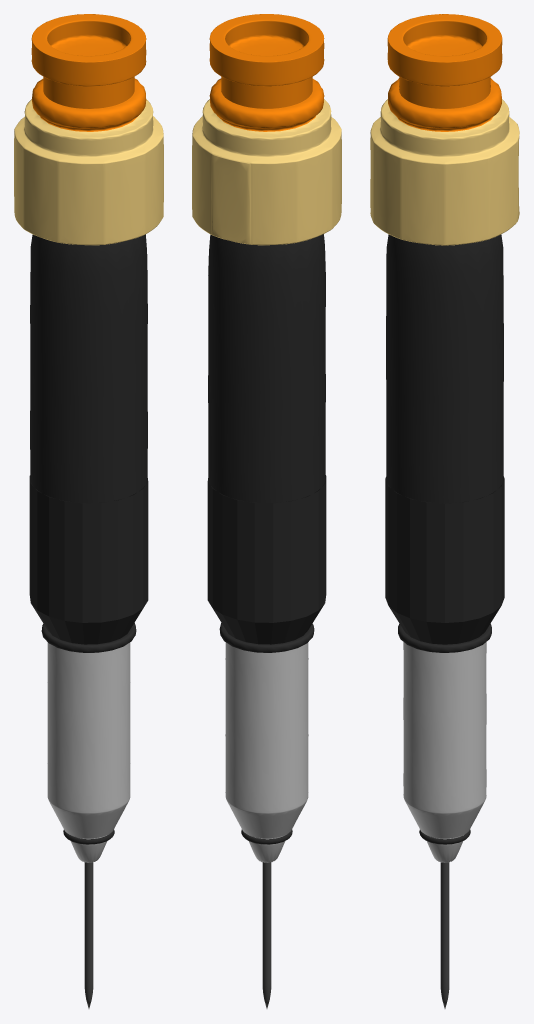
The model's file is airscribe.gltf.
3 renders of one model, left to right at view 1: azimuth 30°, elevation 25°; view 2: azimuth 150°, elevation 25°; view 3: azimuth 270°, elevation 25°, orthographic.
Parts seen in each view (by area): view 1: airscribe; view 2: airscribe; view 3: airscribe.
Boxes of the visible parts, x1,y1,x2,y2 form: airscribe: [14, 14, 163, 1008]; airscribe: [192, 14, 341, 1008]; airscribe: [370, 14, 519, 1008].
Size of the model in its own units: 0.021 by 0.1501 by 0.0209.
